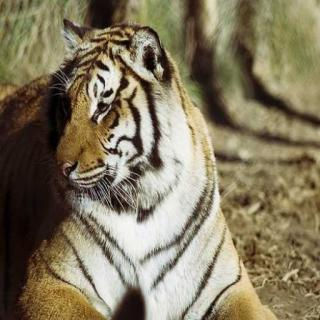Tiger: (0, 14, 277, 320)
